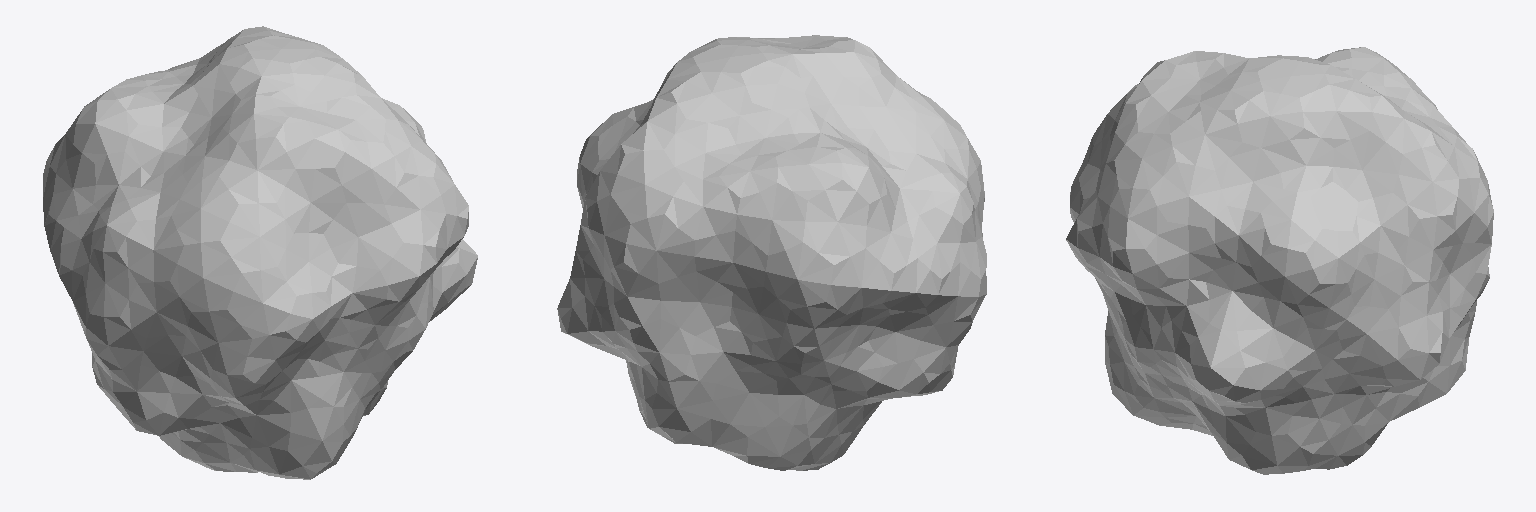
File: asteroid2.obj
3 views of the same model, side by side, from view 1: azimuth 30°, elevation 25°; view 2: azimuth 150°, elevation 25°; view 3: azimuth 270°, elevation 25° (orthographic).
Parts seen in each view (by area): view 1: Asteroid2; view 2: Asteroid2; view 3: Asteroid2.
Part boxes in pixels (left/top/right/bottom): Asteroid2: left=43, top=26, right=477, bottom=479; Asteroid2: left=557, top=35, right=986, bottom=470; Asteroid2: left=1066, top=47, right=1493, bottom=474.
Size of the model in its own units: 1.99 by 1.97 by 1.94.